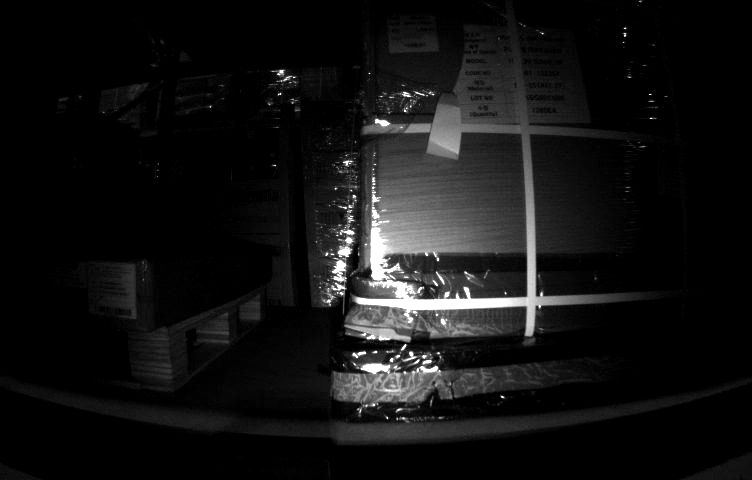True Barcode: (384, 14, 437, 50)
